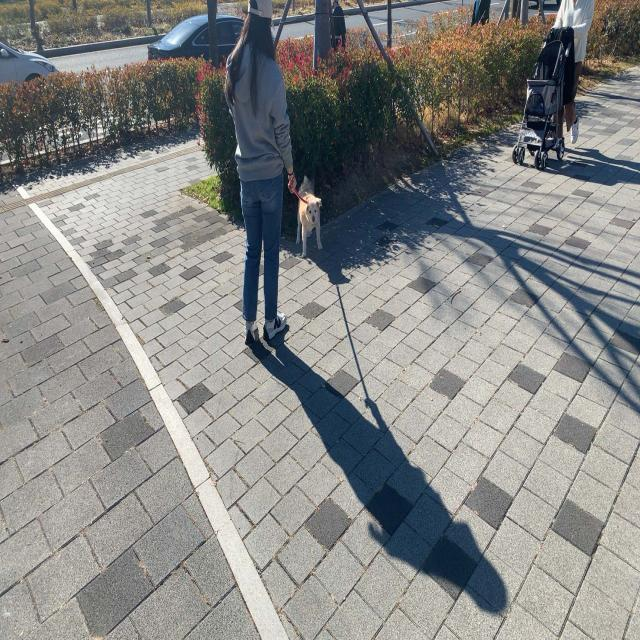Leashed_Dog: (267, 151, 323, 260)
